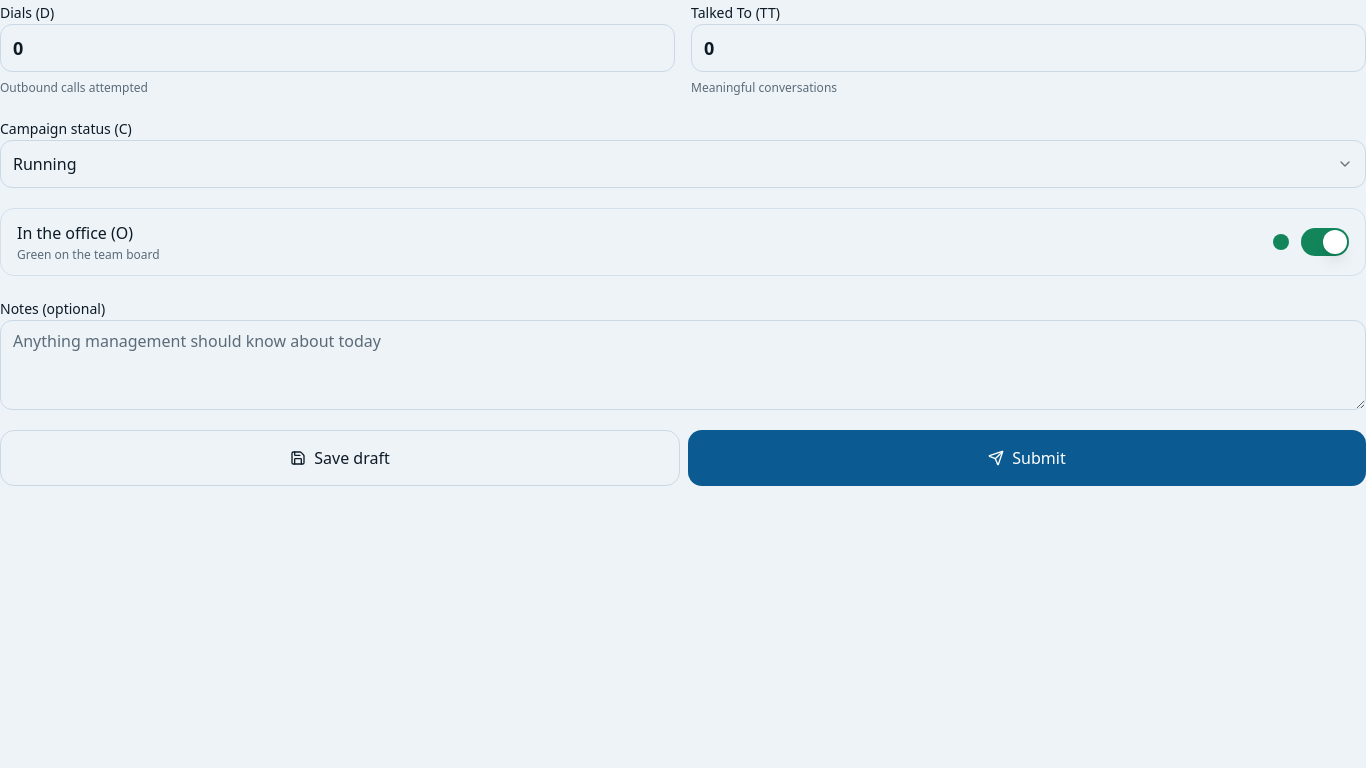
daily form › surfaces a field error from the server
The image size is (1366, 768).
Click the button with test id "open-submit": click(1027, 458) [688,430,1365,486]
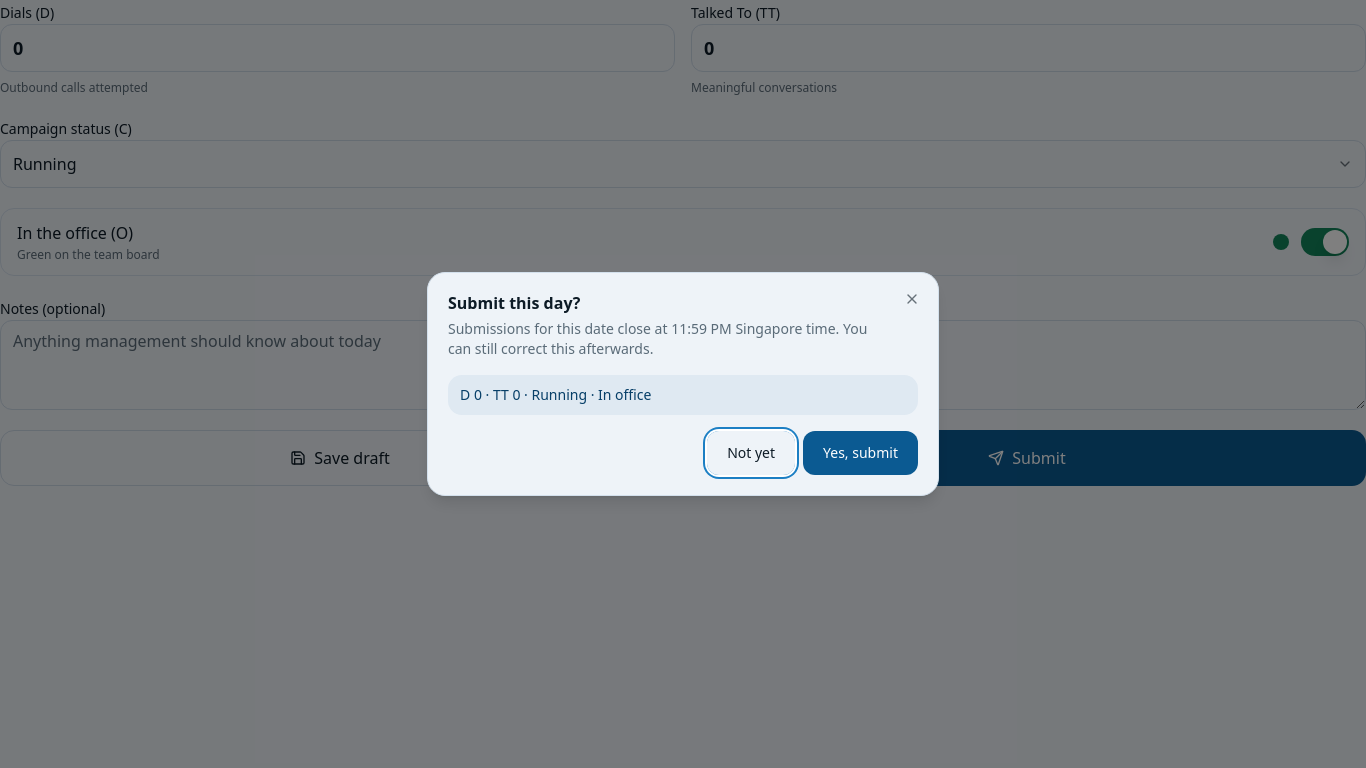
Click the button with test id "confirm-submit": click(860, 453) [803,431,918,475]
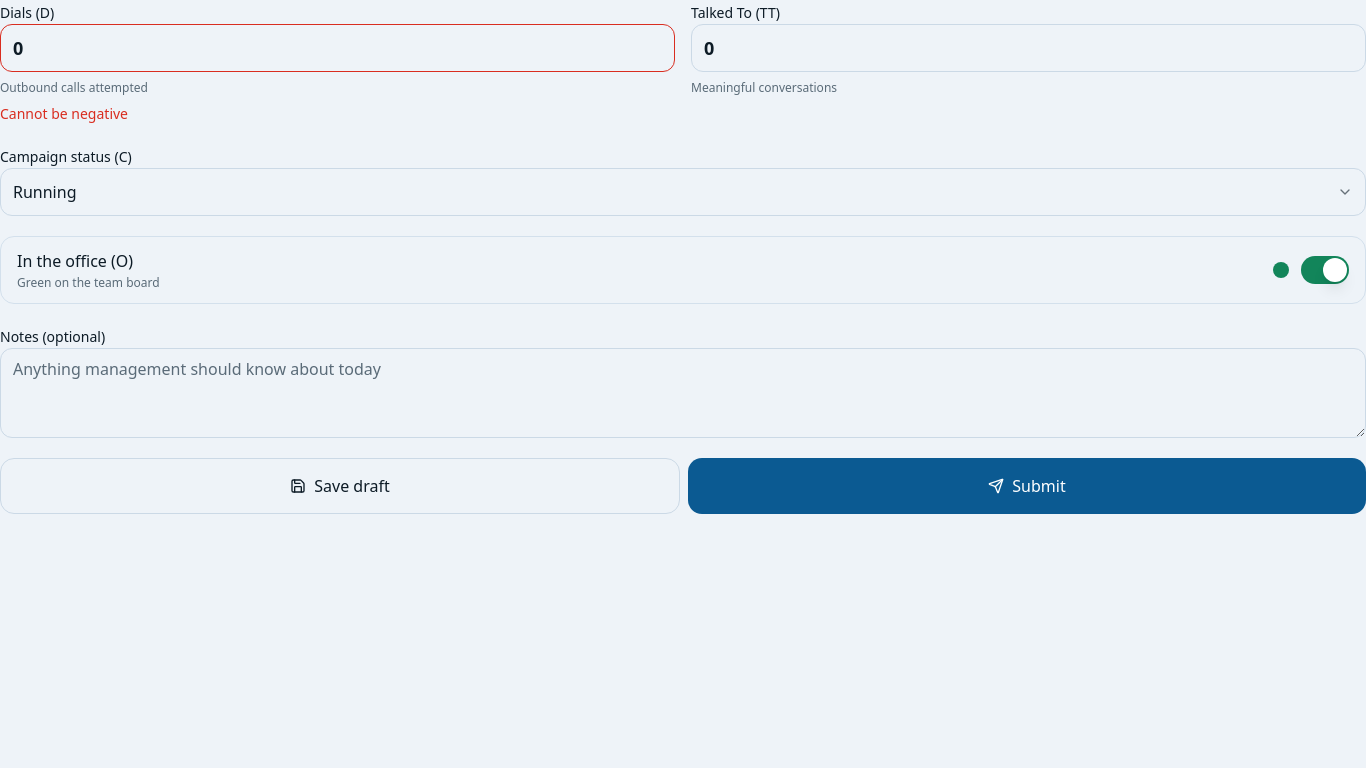
Expected: the text "Cannot be negative" is shown, [0,104,128,123]
